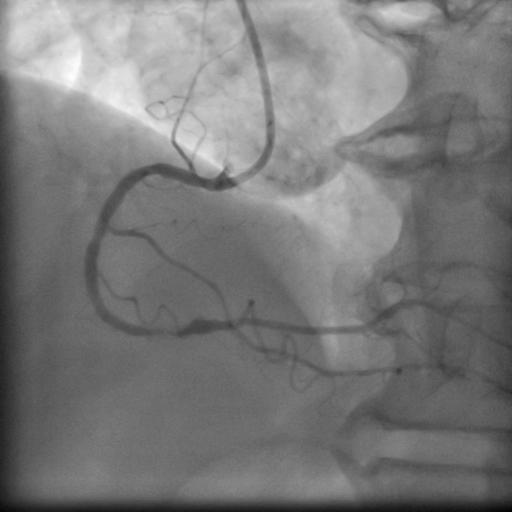Stenosis: (140, 320, 191, 340)
